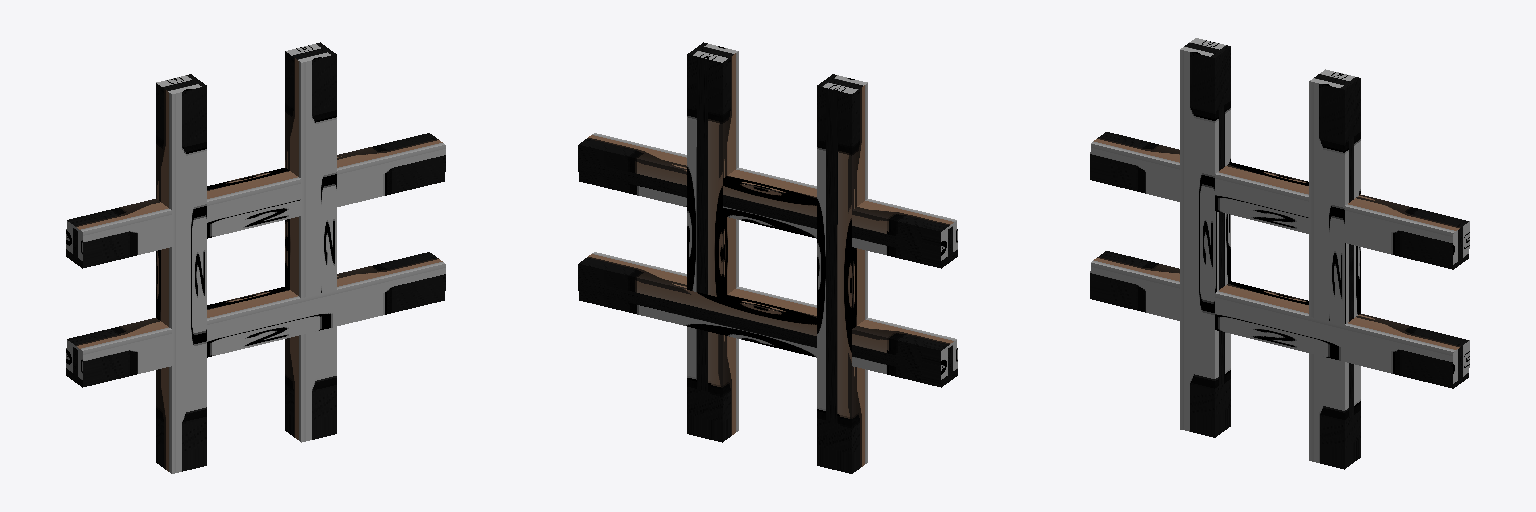
3 renders of one model, left to right at view 1: azimuth 30°, elevation 25°; view 2: azimuth 150°, elevation 25°; view 3: azimuth 330°, elevation 25°, orthographic.
Parts seen in each view (by area): view 1: Cube.001; view 2: Cube.001; view 3: Cube.001.
Boxes of the visible parts, <box> form: Cube.001: <box>66,42,445,473</box>; Cube.001: <box>578,42,957,473</box>; Cube.001: <box>1090,38,1469,469</box>.
Bounding box in the file's own units: 9.13 × 9.13 × 0.7008.
Materials: 1 (1 with a texture image).